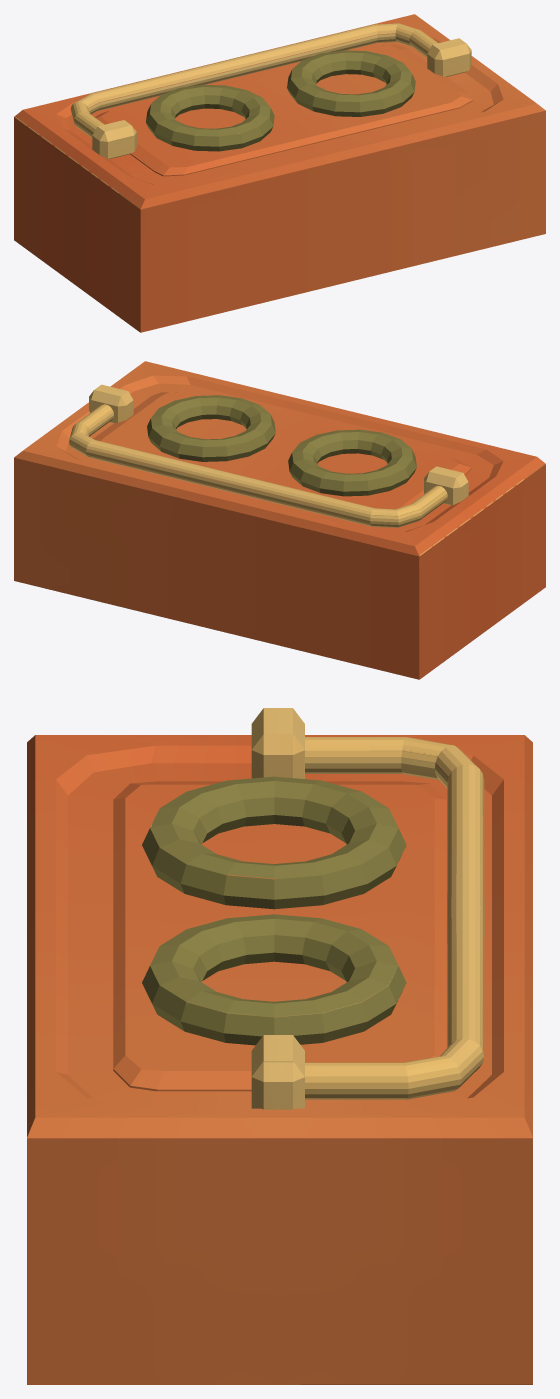
File: LittleFlipSwitch.fbx
The picture shows the model from 3 angles, top to bottom: view 1: azimuth 30°, elevation 25°; view 2: azimuth 150°, elevation 25°; view 3: azimuth 270°, elevation 25°; orthographic projection. The views are drawn at different scales.
Parts seen in each view (by area): view 1: Cube.015; view 2: Cube.015; view 3: Cube.015.
Part boxes in pixels (left/top/right/bottom): Cube.015: left=14, top=14, right=545, bottom=332; Cube.015: left=14, top=361, right=545, bottom=679; Cube.015: left=27, top=708, right=532, bottom=1384.
Bounding box in the file's own units: 200 × 71.64 × 108.
